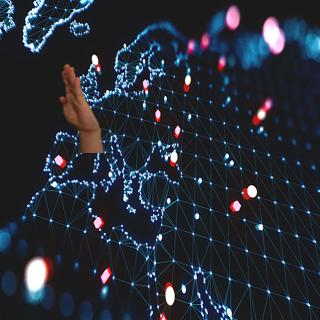RIGHT: (53, 61, 102, 135)
